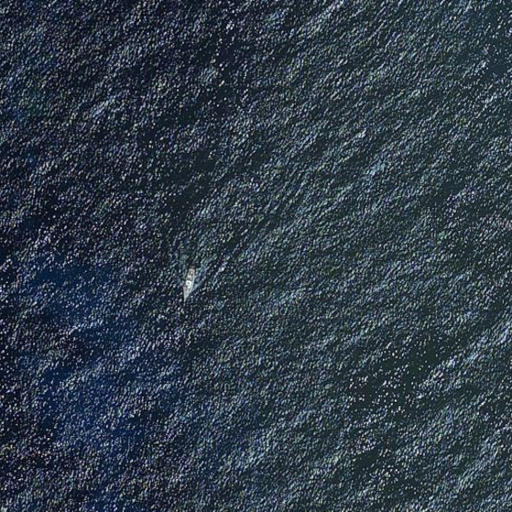ship: (181, 265, 196, 304)
